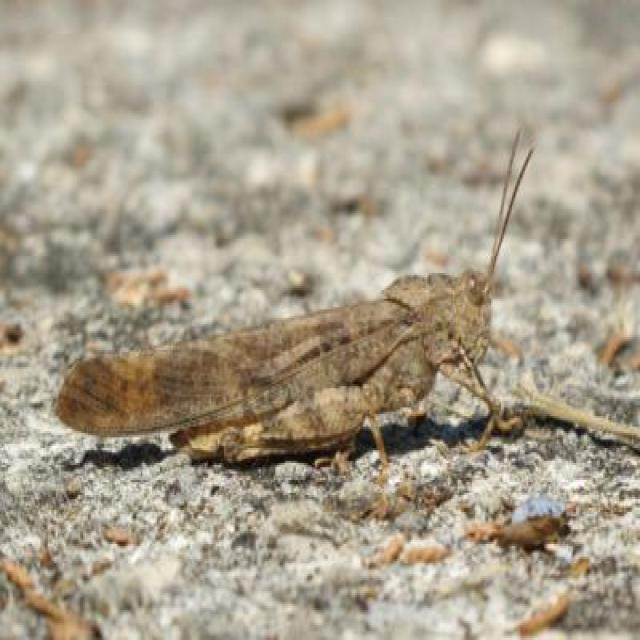antennae: (489, 150, 534, 282), (493, 130, 519, 268)
body: (63, 272, 497, 445)
insect: (61, 126, 534, 495)
legs: (436, 365, 504, 452), (357, 407, 397, 515)
mouthpart: (458, 336, 494, 369)
wings: (58, 303, 408, 433)
